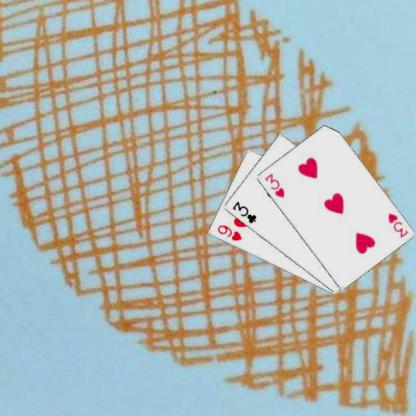3C: (229, 199, 257, 225)
3H: (385, 210, 409, 239), (262, 171, 286, 199)
9H: (214, 222, 243, 242)
